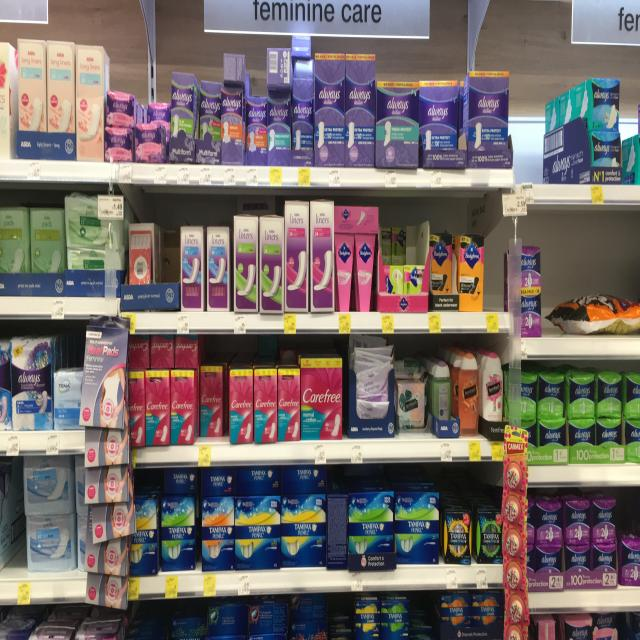empty: (509, 84, 582, 181), (483, 220, 510, 323), (158, 212, 182, 314)
